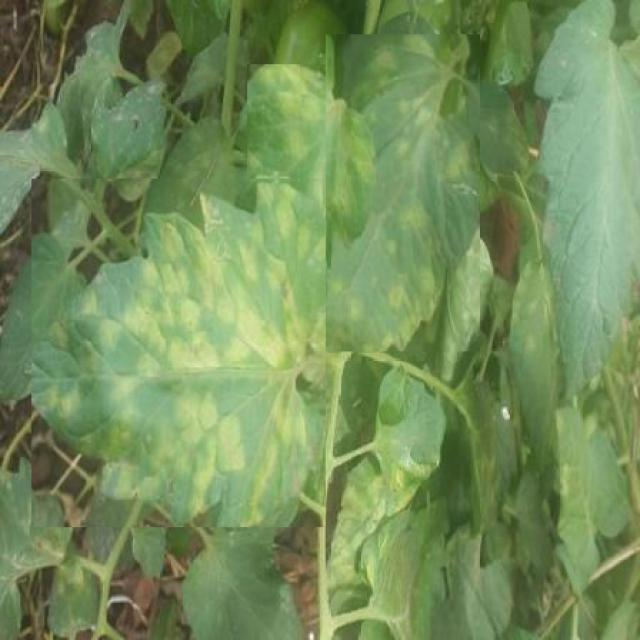Leaf Mold: (32, 179, 325, 528), (326, 35, 480, 352), (248, 65, 373, 274)
